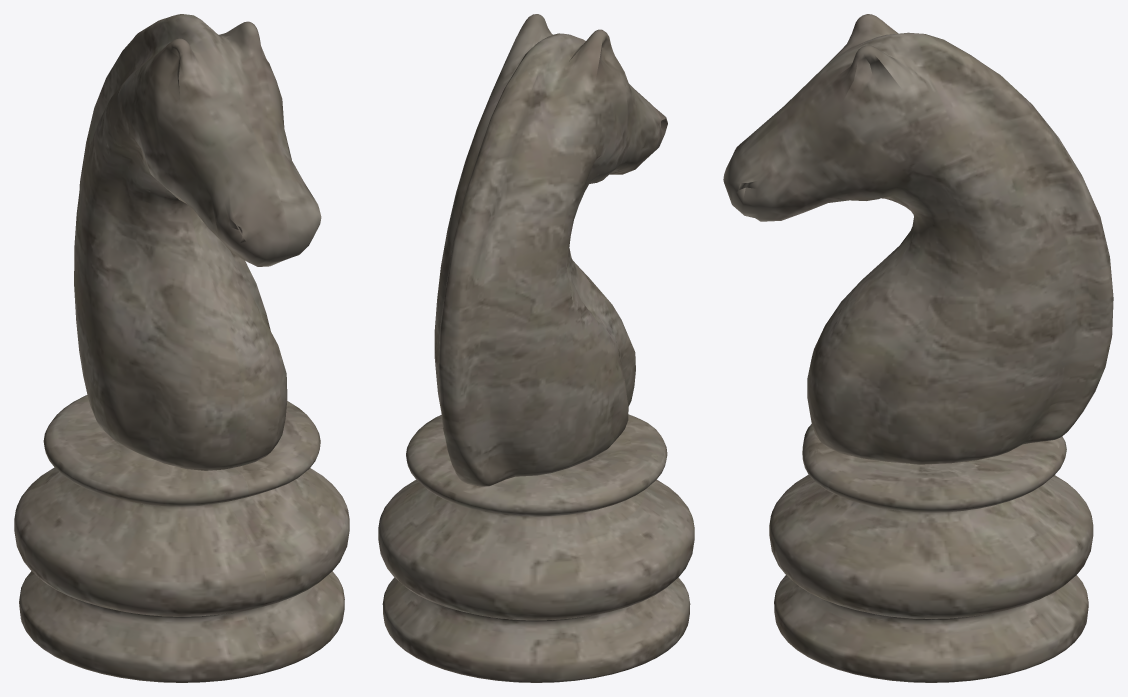
The model's file is knight.glb.
3 views of the same model, side by side, from view 1: azimuth 30°, elevation 25°; view 2: azimuth 150°, elevation 25°; view 3: azimuth 270°, elevation 25° (orthographic). The views are drawn at different scales.
Visible parts, largest first — view 1: Knight_W1; view 2: Knight_W1; view 3: Knight_W1.
Part boxes in pixels (bbox=[...]): Knight_W1: bbox=[14, 14, 349, 682]; Knight_W1: bbox=[378, 14, 694, 682]; Knight_W1: bbox=[723, 14, 1113, 682].
Size of the model in its own units: 0.0274 by 0.055 by 0.0331.
1 material, 1 textured.
